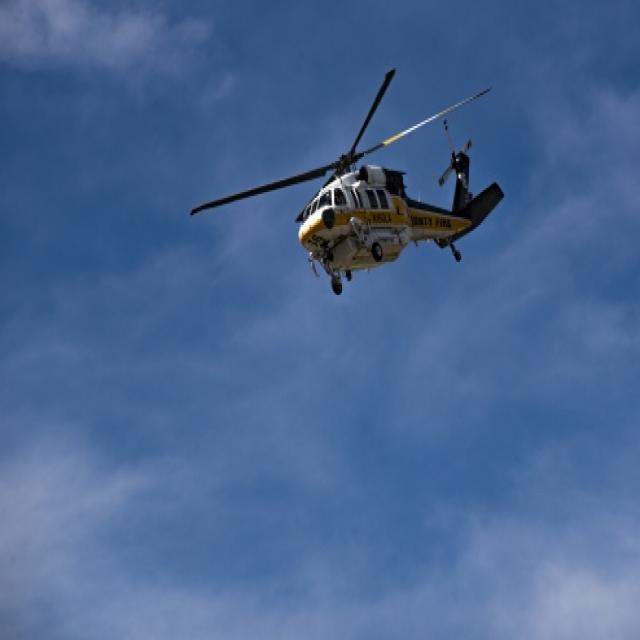helicopter: (196, 69, 503, 305)
